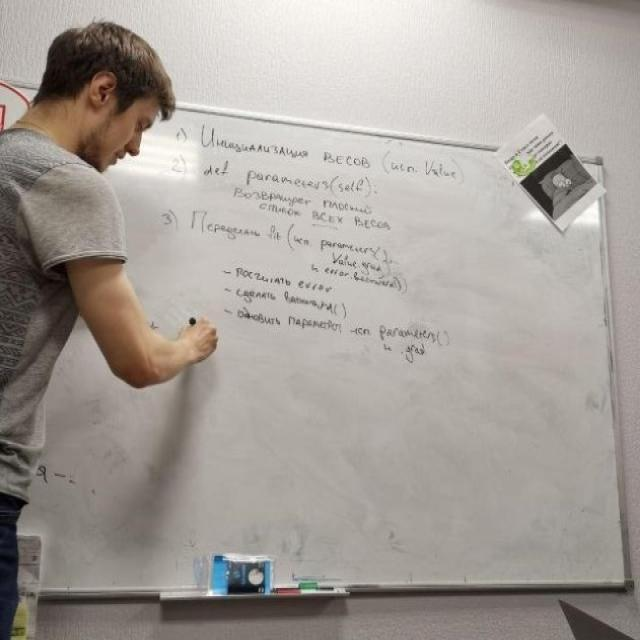Instructor: (0, 16, 168, 597)
White-board: (0, 77, 635, 597)
